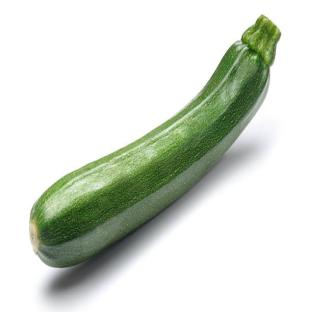Zucchini: (30, 16, 280, 267)
